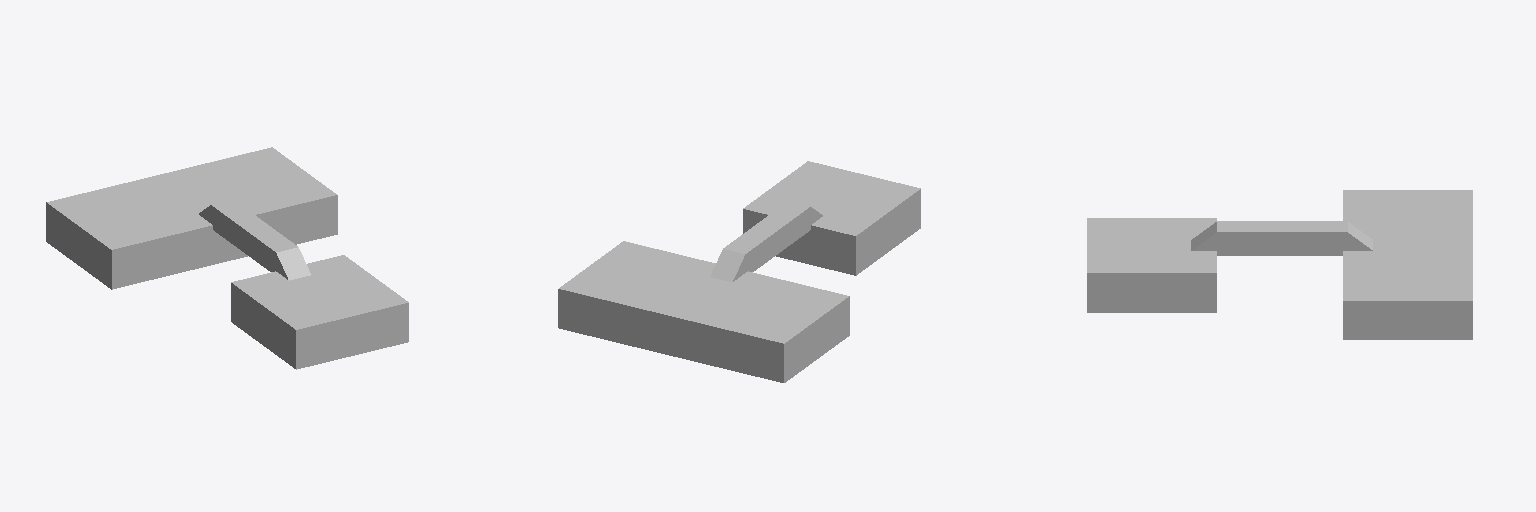
The model's file is bridge.obj.
The picture shows the model from 3 angles: view 1: azimuth 30°, elevation 25°; view 2: azimuth 150°, elevation 25°; view 3: azimuth 270°, elevation 25°; orthographic projection.
Parts seen in each view (by area): view 1: Cube.002, Cube.001, Cube; view 2: Cube.002, Cube.001, Cube; view 3: Cube.002, Cube.001, Cube.
Part boxes in pixels (left/top/right/bottom): Cube.002: left=46, top=147, right=337, bottom=289; Cube.001: left=231, top=255, right=408, bottom=369; Cube: left=199, top=199, right=310, bottom=280; Cube.002: left=558, top=241, right=849, bottom=382; Cube.001: left=743, top=161, right=920, bottom=275; Cube: left=710, top=201, right=822, bottom=281; Cube.002: left=1343, top=190, right=1472, bottom=339; Cube.001: left=1087, top=218, right=1216, bottom=312; Cube: left=1191, top=221, right=1372, bottom=255.
Size of the model in its own units: 20 by 4.94 by 29.64.